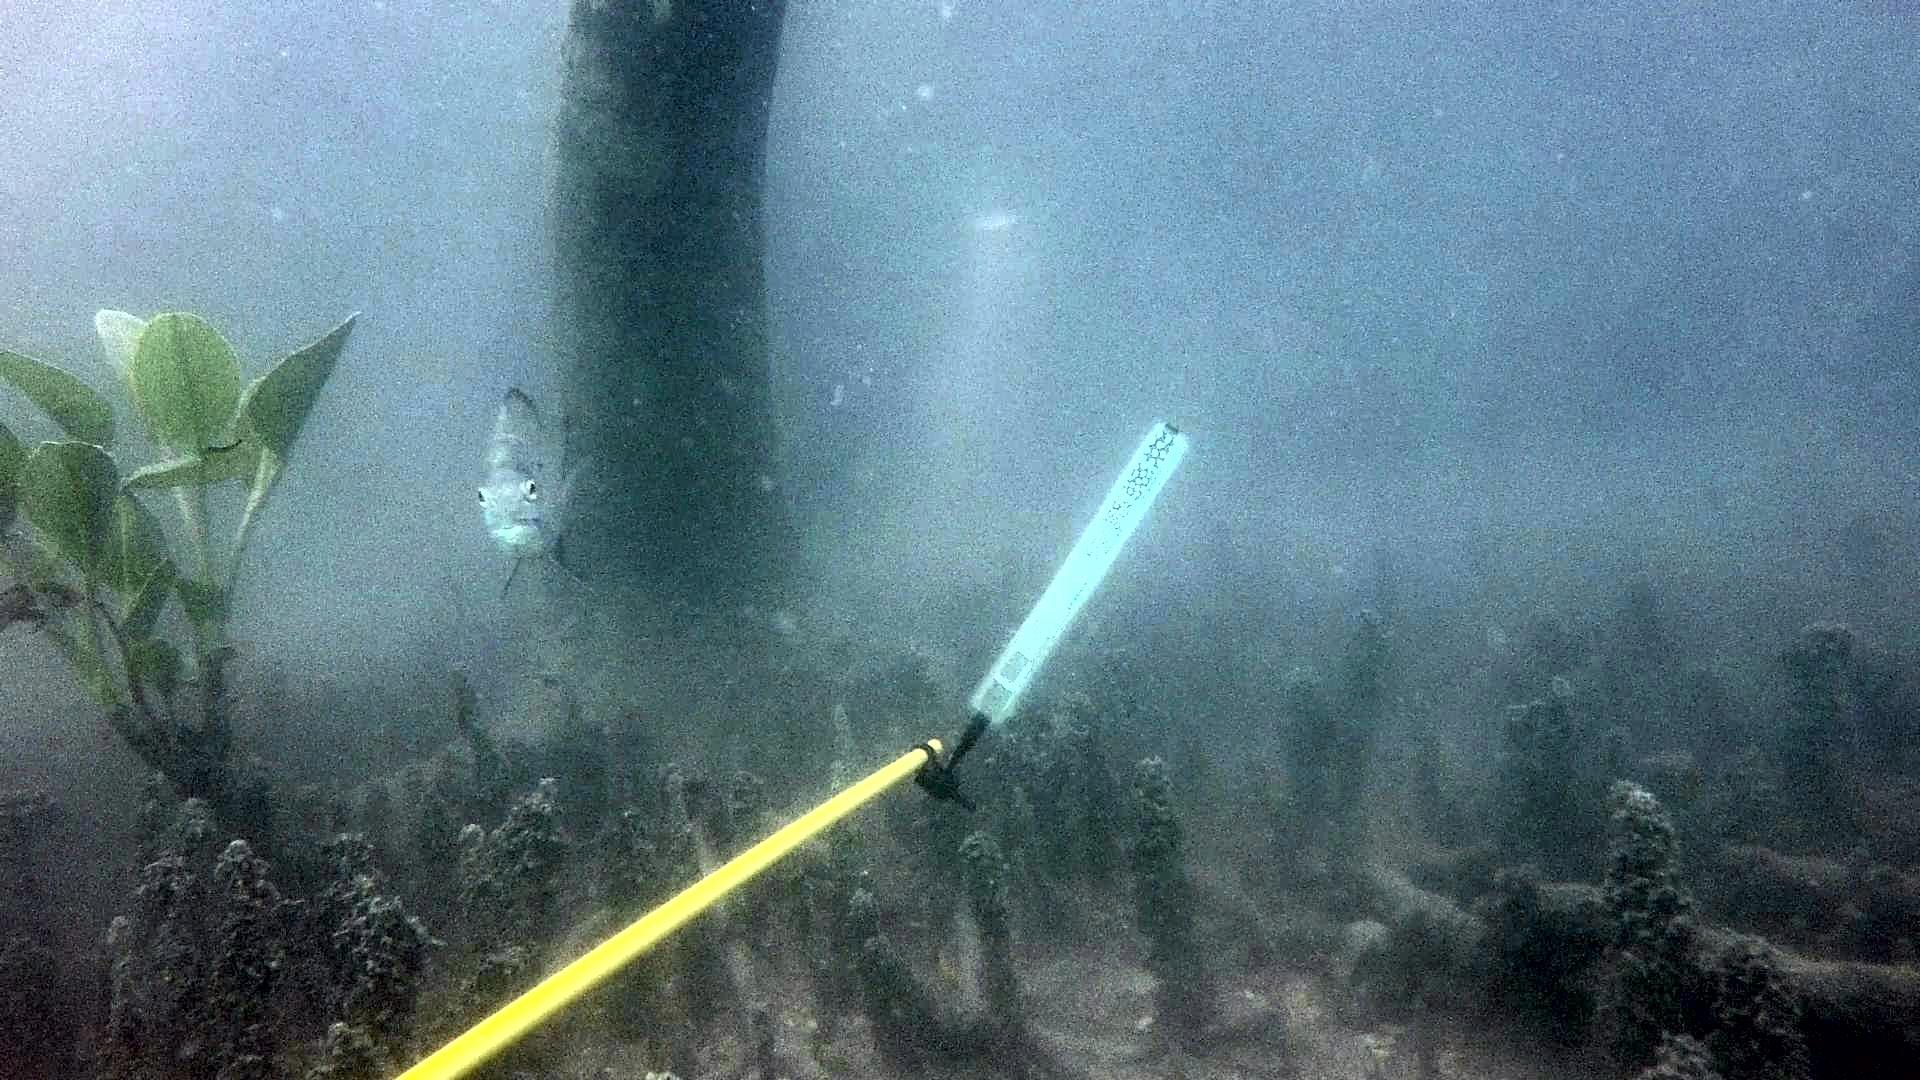acanthopagrus palmaris: (465, 357, 608, 600)
